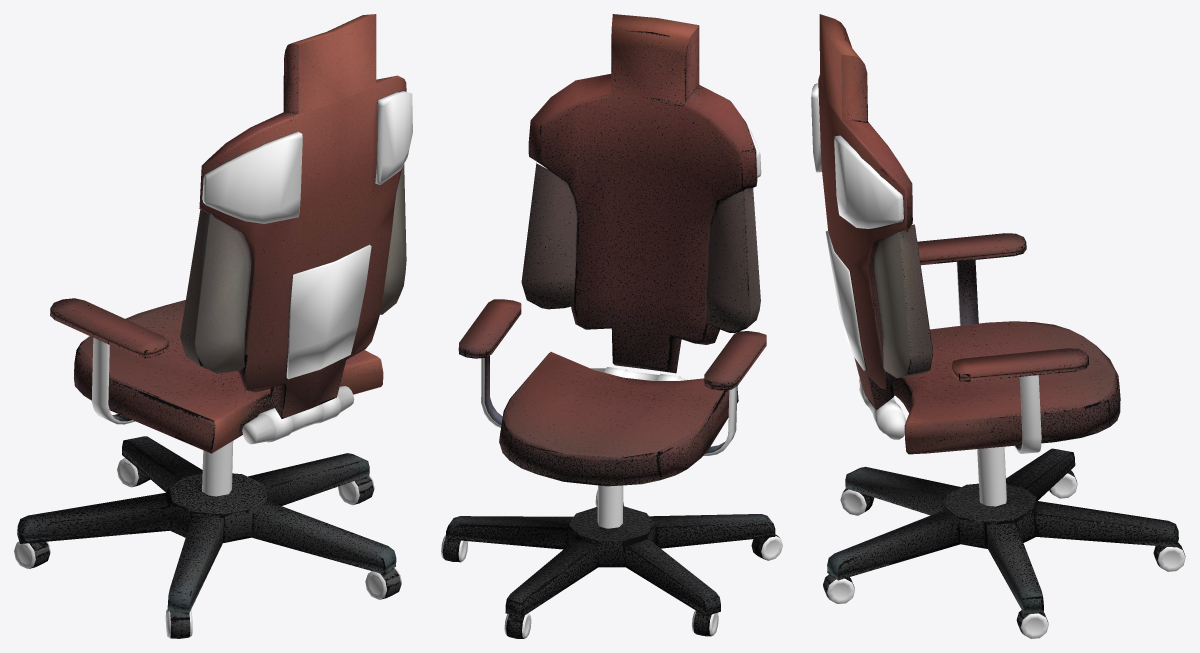
Rendered from chair.glb.
The picture shows the model from 3 angles, left to right: view 1: azimuth 30°, elevation 25°; view 2: azimuth 150°, elevation 25°; view 3: azimuth 270°, elevation 25°; orthographic projection. The views are drawn at different scales.
Visible parts, largest first — view 1: chair, chair.metal; view 2: chair, chair.metal; view 3: chair, chair.metal.
Boxes of the visible parts, <box> form: chair: <box>17,14,406,638</box>; chair.metal: <box>14,91,412,637</box>; chair: <box>442,14,779,638</box>; chair.metal: <box>441,127,782,638</box>; chair: <box>818,14,1185,633</box>; chair.metal: <box>811,83,1185,638</box>.
Size of the model in its own units: 0.9838 by 1.63 by 1.02.
2 materials, 1 textured.
